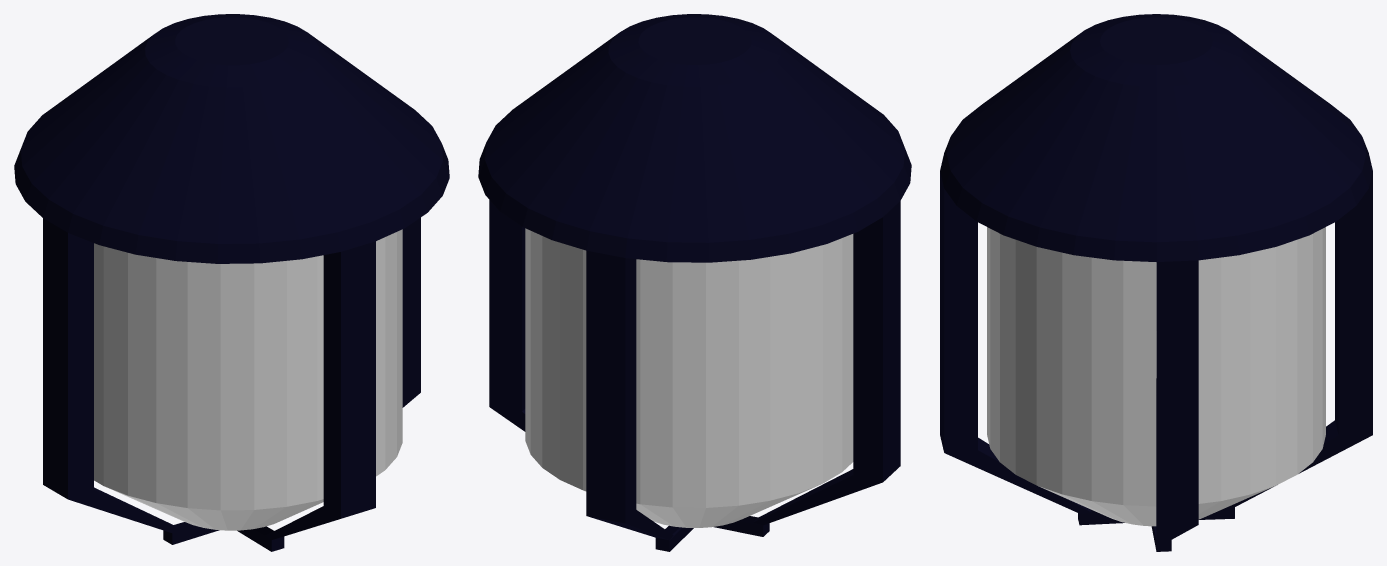
File: Lamp.fbx
The picture shows the model from 3 angles, left to right: view 1: azimuth 30°, elevation 25°; view 2: azimuth 150°, elevation 25°; view 3: azimuth 270°, elevation 25°; orthographic projection.
Parts seen in each view (by area): view 1: Cylinder; view 2: Cylinder; view 3: Cylinder.
Part boxes in pixels (bbox=[...]): Cylinder: bbox=[14, 14, 449, 551]; Cylinder: bbox=[478, 14, 911, 551]; Cylinder: bbox=[940, 14, 1372, 551].
Size of what is drawn, in the model's own units: 152 by 185 by 152.
